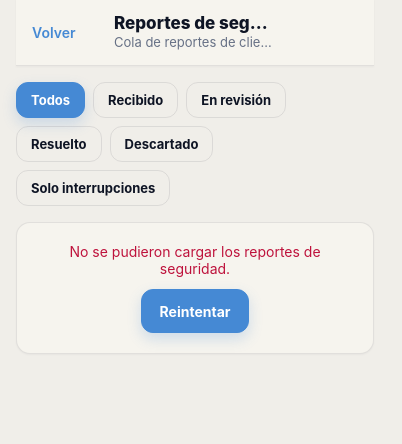
Test: AdminSecurityReportsScreen — estados de la lista › muestra el error con reintento y nunca como cola vacia
Expected: the text "No se pudieron cargar los reportes de seguridad." is shown, x1=69 y1=243 x2=324 y2=277
Click the text "Reintentar". click: (195, 311)
box: x1=160 y1=302 x2=230 y2=320
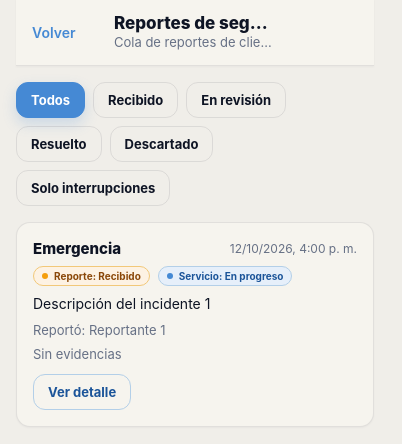
Now the text "Descripción del incidente 1" is shown, box x1=33 y1=295 x2=210 y2=312
